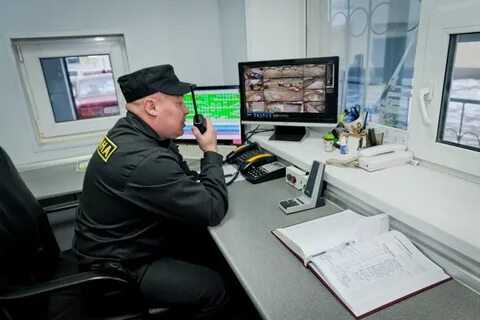awake: (72, 63, 230, 299)
